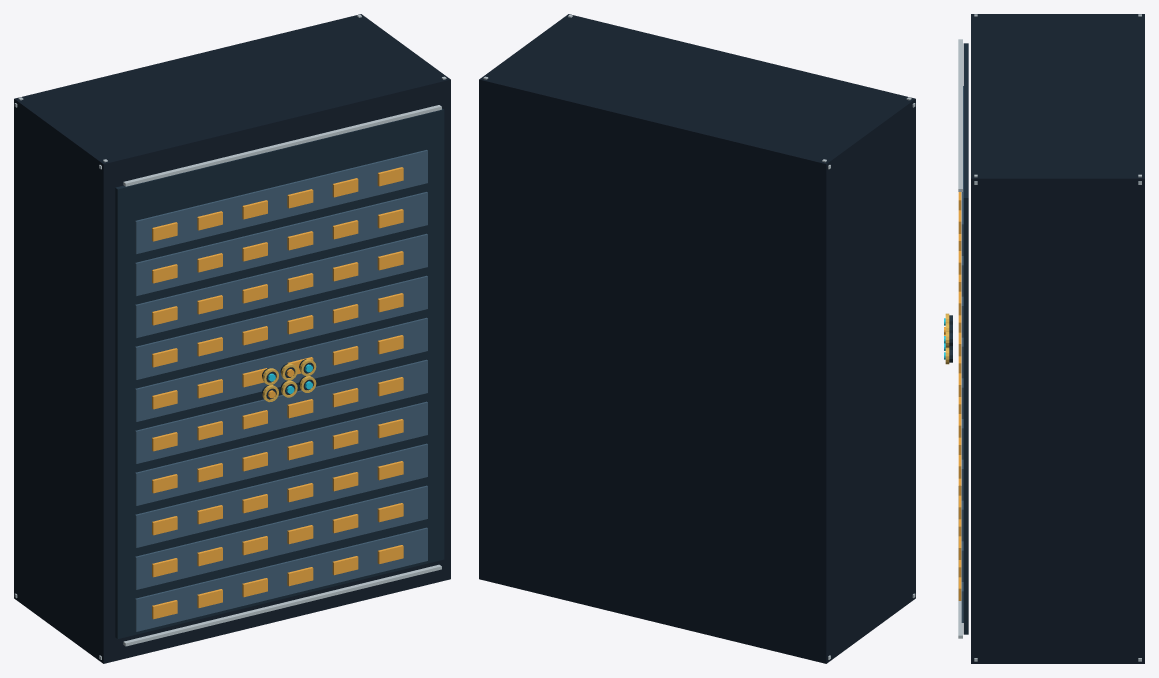
Rendered from 14_L81_HardenedMemorySubsystemRack.fbx.
The picture shows the model from 3 angles, left to right: view 1: azimuth 30°, elevation 25°; view 2: azimuth 150°, elevation 25°; view 3: azimuth 270°, elevation 25°; orthographic projection. The views are drawn at different scales.
Parts seen in each view (by area): view 1: HardenedMemorySubsystemRack; view 2: HardenedMemorySubsystemRack; view 3: HardenedMemorySubsystemRack.
Boxes of the visible parts, box(x1,y1,x2,y2) form: HardenedMemorySubsystemRack: box(14, 14, 450, 663); HardenedMemorySubsystemRack: box(479, 14, 915, 663); HardenedMemorySubsystemRack: box(944, 14, 1144, 663).
Bounding box in the file's own units: 282 × 387 × 144.
